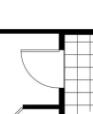door: (17, 42, 70, 96)
